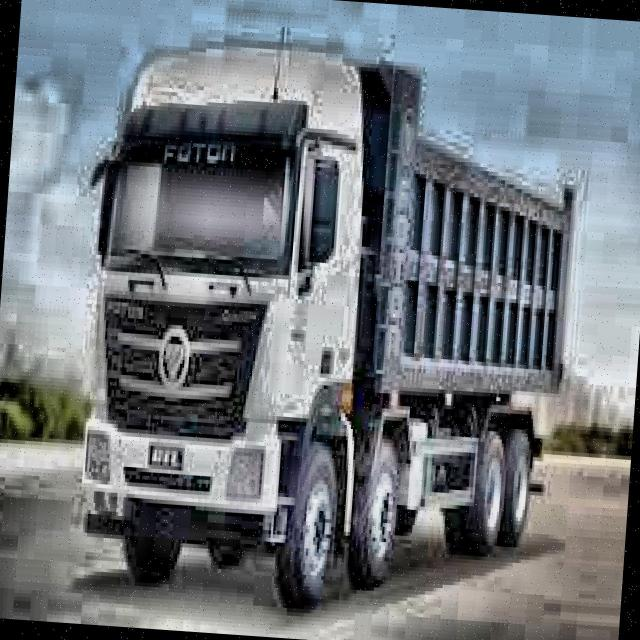dump_truck: (63, 28, 584, 619)
